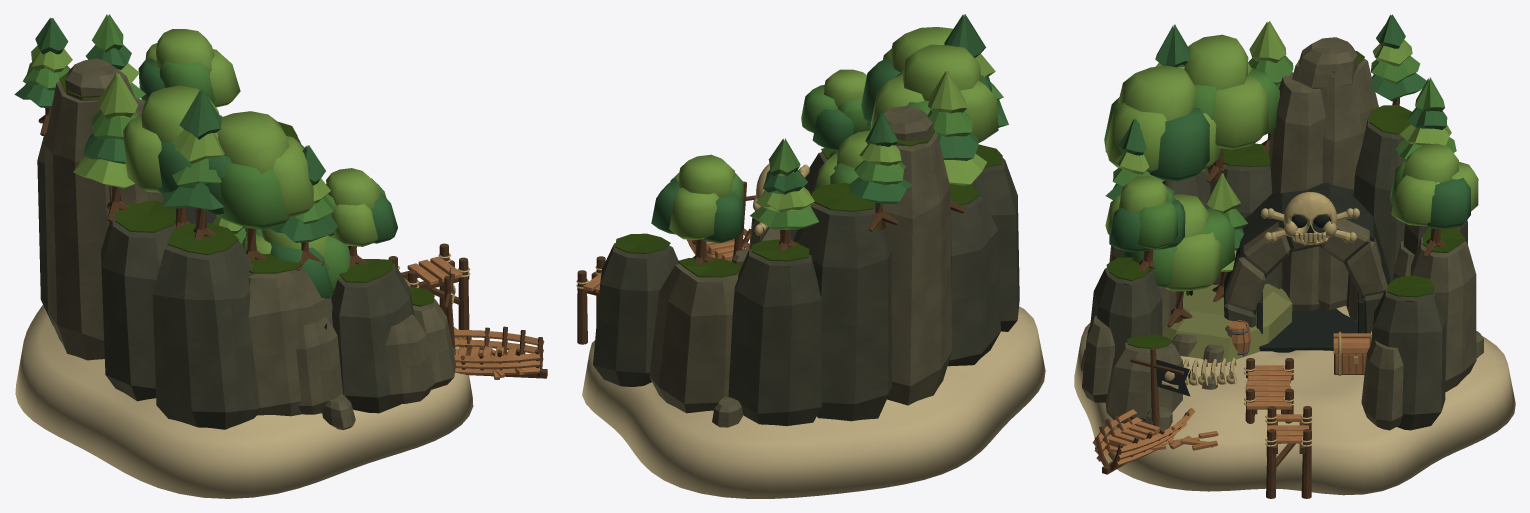
Rendered from pirate_island.glb.
3 views of the same model, side by side, from view 1: azimuth 30°, elevation 25°; view 2: azimuth 150°, elevation 25°; view 3: azimuth 270°, elevation 25° (orthographic). The views are drawn at different scales.
Parts seen in each view (by area): view 1: P25_Export_P25_rock, P25_Export_P25_rocklight, P25_Export_P25_sand, P25_Export_Ref_D19_Foliage1, P25_Export_Ref_D19_Foliage2, P25_Export_Ref_D19_Foliage0, P25_Export_P25_moss_cap, P25_Export_Ref_TR20_beam, P25_Export_Ref_TR20_wood, P25_Export_Ref_TR20_deck; view 2: P25_Export_P25_rock, P25_Export_P25_sand, P25_Export_P25_rocklight, P25_Export_Ref_D19_Foliage1, P25_Export_Ref_D19_Foliage2, P25_Export_Ref_D19_Foliage0, P25_Export_P25_moss_cap, P25_Export_Ref_TR20_beam, P25_Export_Ref_TR20_deck; view 3: P25_Export_P25_rocklight, P25_Export_P25_sand, P25_Export_Ref_D19_Foliage1, P25_Export_P25_rock, P25_Export_Ref_D19_Foliage2, P25_Export_Ref_D19_Foliage0, P25_Export_Ref_TR20_beam, P25_Export_P25_moss_cap, P25_Export_P25_soil, P25_Export_Ref_TR20_wood, P25_Export_P25_rockdark, P25_Export_Ref_TR20_deck (+4 smaller).
Boxes of the visible parts, bbox=[...] form: P25_Export_P25_rock: bbox=[37, 133, 414, 429]; P25_Export_P25_rocklight: bbox=[44, 58, 455, 429]; P25_Export_P25_sand: bbox=[15, 305, 473, 498]; P25_Export_Ref_D19_Foliage1: bbox=[31, 29, 381, 269]; P25_Export_Ref_D19_Foliage2: bbox=[14, 17, 397, 298]; P25_Export_Ref_D19_Foliage0: bbox=[23, 14, 386, 294]; P25_Export_P25_moss_cap: bbox=[59, 72, 434, 306]; P25_Export_Ref_TR20_beam: bbox=[38, 108, 547, 378]; P25_Export_Ref_TR20_wood: bbox=[454, 327, 544, 379]; P25_Export_Ref_TR20_deck: bbox=[331, 256, 516, 355]; P25_Export_P25_rock: bbox=[593, 152, 1019, 426]; P25_Export_P25_sand: bbox=[582, 306, 1045, 498]; P25_Export_P25_rocklight: bbox=[649, 106, 951, 427]; P25_Export_Ref_D19_Foliage1: bbox=[669, 27, 998, 239]; P25_Export_Ref_D19_Foliage2: bbox=[651, 14, 1008, 243]; P25_Export_Ref_D19_Foliage0: bbox=[731, 71, 1003, 229]; P25_Export_P25_moss_cap: bbox=[615, 127, 1002, 277]; P25_Export_Ref_TR20_beam: bbox=[577, 181, 964, 344]; P25_Export_Ref_TR20_deck: bbox=[583, 239, 744, 292]; P25_Export_P25_rocklight: bbox=[1080, 37, 1483, 430]; P25_Export_P25_sand: bbox=[1074, 305, 1515, 495]; P25_Export_Ref_D19_Foliage1: bbox=[1105, 21, 1478, 291]; P25_Export_P25_rock: bbox=[1090, 114, 1467, 430]; P25_Export_Ref_D19_Foliage2: bbox=[1105, 14, 1470, 257]; P25_Export_Ref_D19_Foliage0: bbox=[1104, 55, 1456, 287]; P25_Export_Ref_TR20_beam: bbox=[1095, 98, 1445, 498]; P25_Export_P25_moss_cap: bbox=[1106, 51, 1465, 348]; P25_Export_P25_soil: bbox=[1162, 283, 1292, 362]; P25_Export_Ref_TR20_wood: bbox=[1092, 320, 1370, 466]; P25_Export_P25_rockdark: bbox=[1224, 183, 1389, 333]; P25_Export_Ref_TR20_deck: bbox=[1108, 365, 1308, 447].
Size of the model in its own units: 11.1 by 9.59 by 11.21.
Materials: 19 (12 with a texture image).
